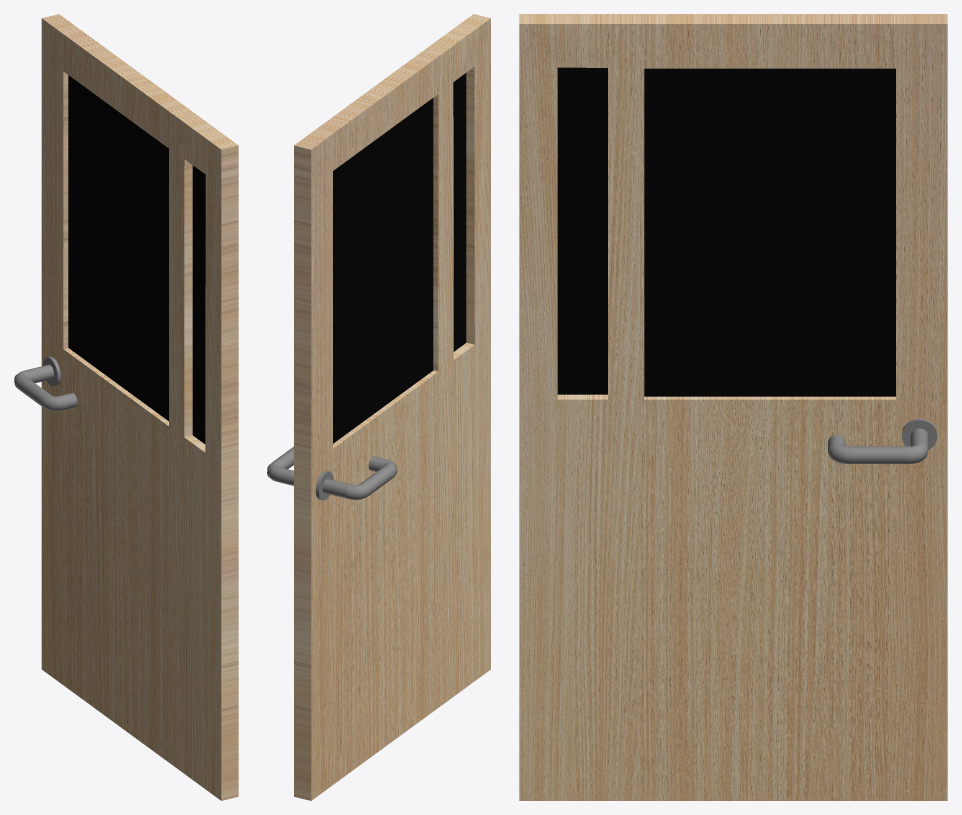
Rendered from Pintu Tele.fbx.
The picture shows the model from 3 angles, left to right: view 1: azimuth 30°, elevation 25°; view 2: azimuth 150°, elevation 25°; view 3: azimuth 270°, elevation 25°; orthographic projection. The views are drawn at different scales.
Parts seen in each view (by area): view 1: pCube419, pCylinder75; view 2: pCube419, pCylinder75, pCylinder84; view 3: pCube419, pCylinder84.
Part boxes in pixels (x1=…): pCube419: x1=41, y1=14, x2=238, y2=800; pCylinder75: x1=14, y1=356, x2=77, y2=411; pCube419: x1=294, y1=14, x2=490, y2=800; pCylinder75: x1=315, y1=456, x2=397, y2=500; pCylinder84: x1=267, y1=446, x2=293, y2=485; pCube419: x1=519, y1=14, x2=947, y2=800; pCylinder84: x1=828, y1=418, x2=937, y2=463.
Size of the model in its own units: 0.3245 by 2 by 1.
Materials: 3 (1 with a texture image).
